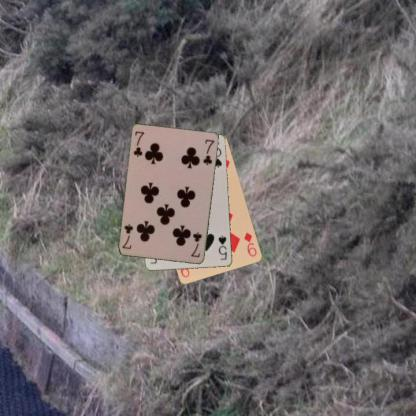5s: (216, 234, 228, 261)
7c: (188, 230, 204, 259), (131, 129, 146, 158)
9d: (242, 229, 258, 258)
